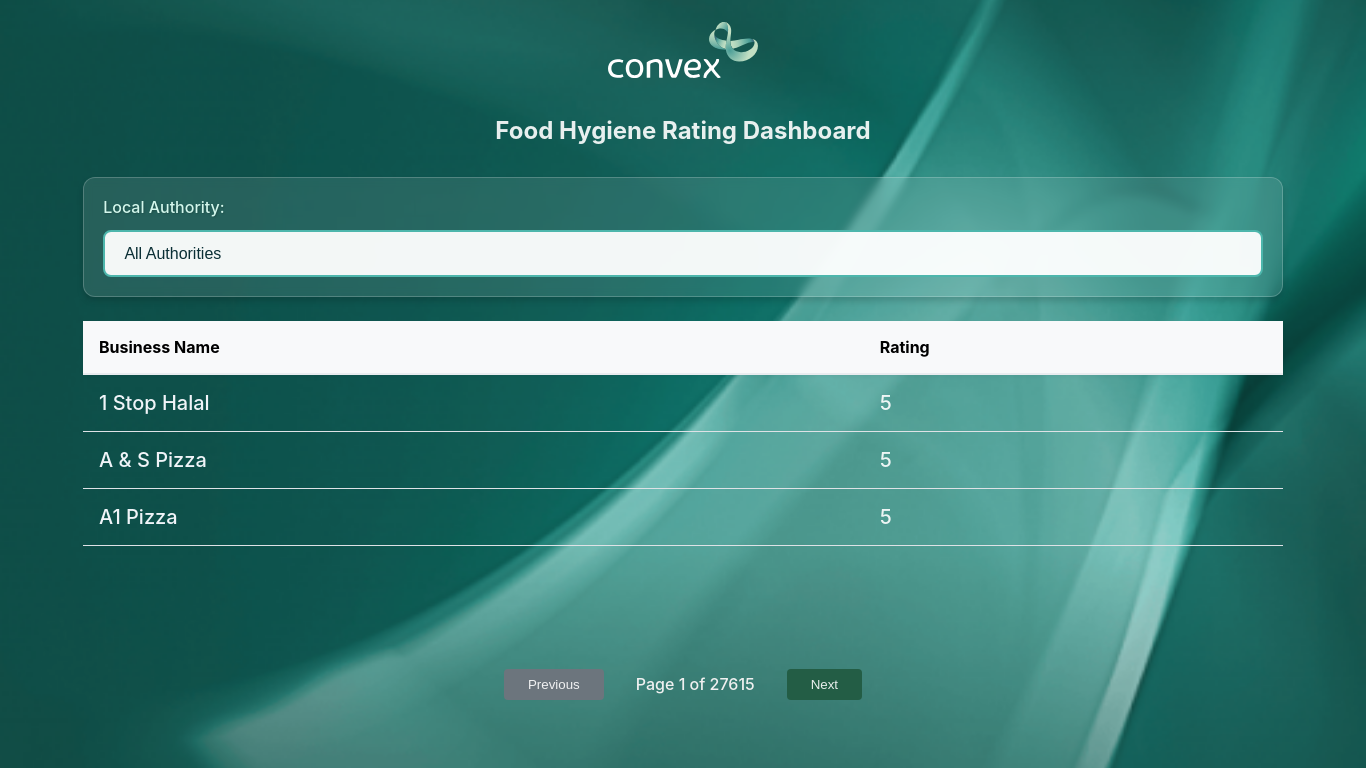
Test: Establishment Details Page › should display error message when fetching establishment details fails
Click the link to "/establishment/478887". click: (155, 403)
box: [99,391,210,415]
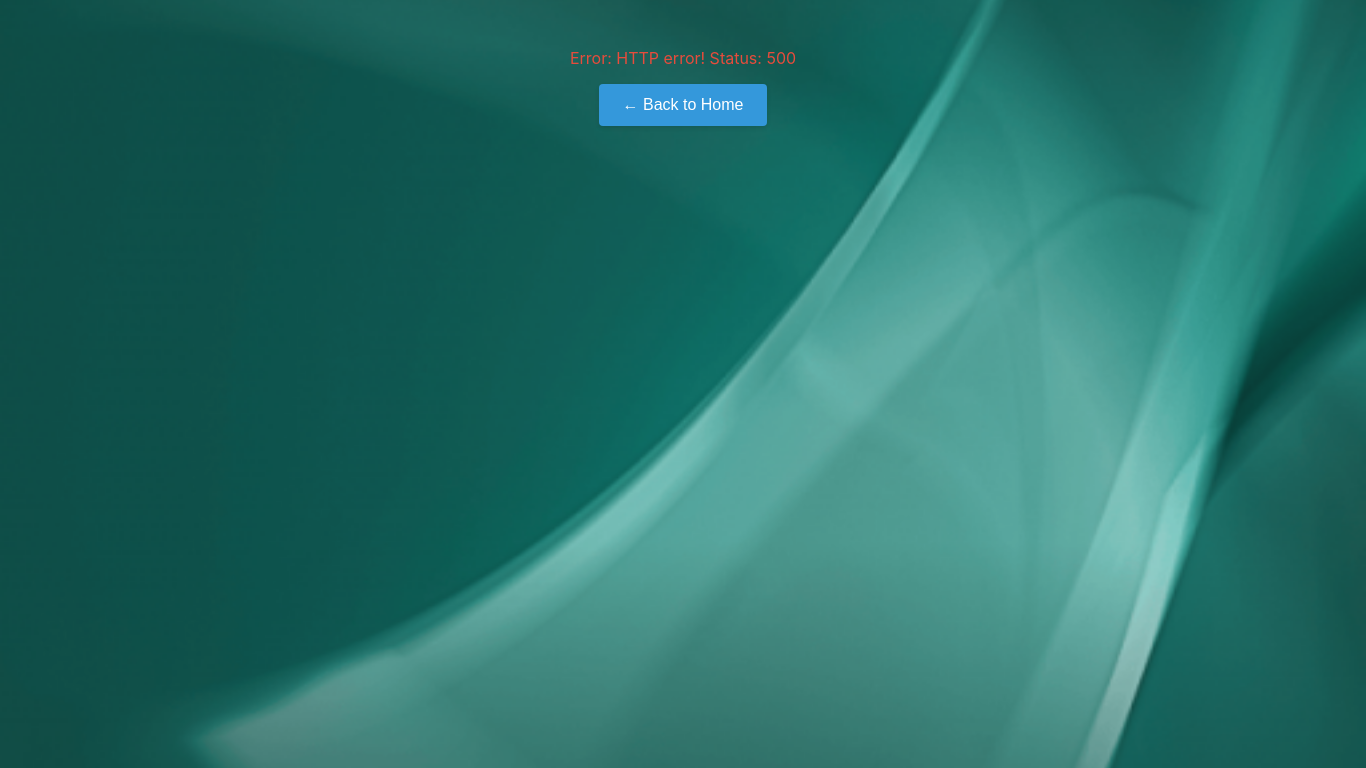
Check: the element with test id "details-error" is shown, box [570,48,796,126]
